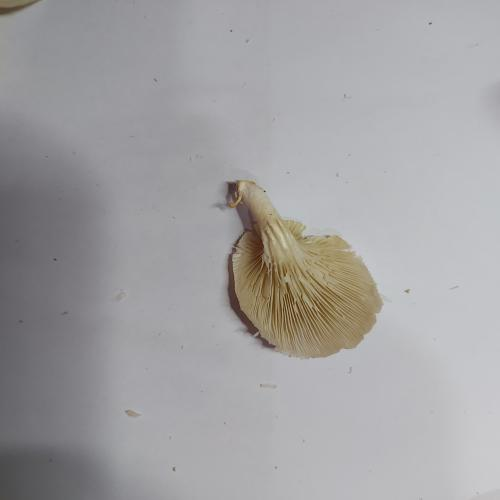Oyster Mushroom: (225, 179, 384, 359)
